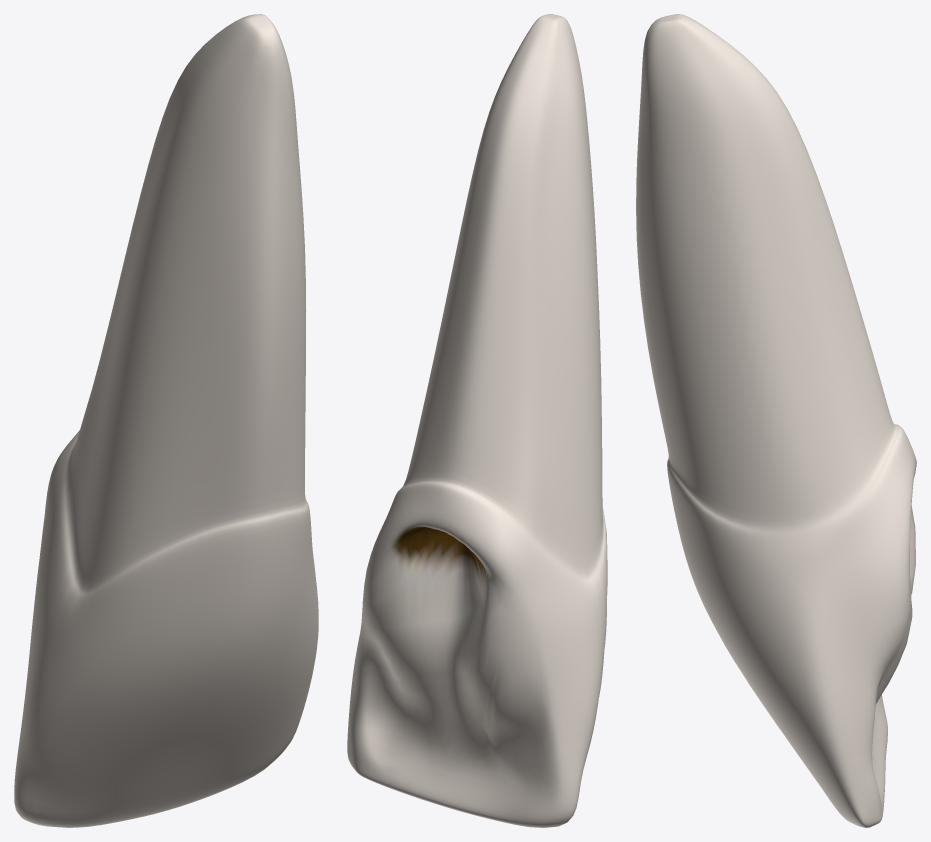
Rendered from Gigi 1.1.fbx.
The picture shows the model from 3 angles, left to right: view 1: azimuth 30°, elevation 25°; view 2: azimuth 150°, elevation 25°; view 3: azimuth 270°, elevation 25°; orthographic projection. The views are drawn at different scales.
Parts seen in each view (by area): view 1: Group35581.011; view 2: Group35581.011; view 3: Group35581.011.
Part boxes in pixels (left/top/right/bottom): Group35581.011: left=14, top=14, right=318, bottom=827; Group35581.011: left=347, top=14, right=607, bottom=827; Group35581.011: left=636, top=14, right=916, bottom=827.
Bounding box in the file's own units: 18.75 × 55.33 × 18.13.
Materials: 1 (1 with a texture image).
